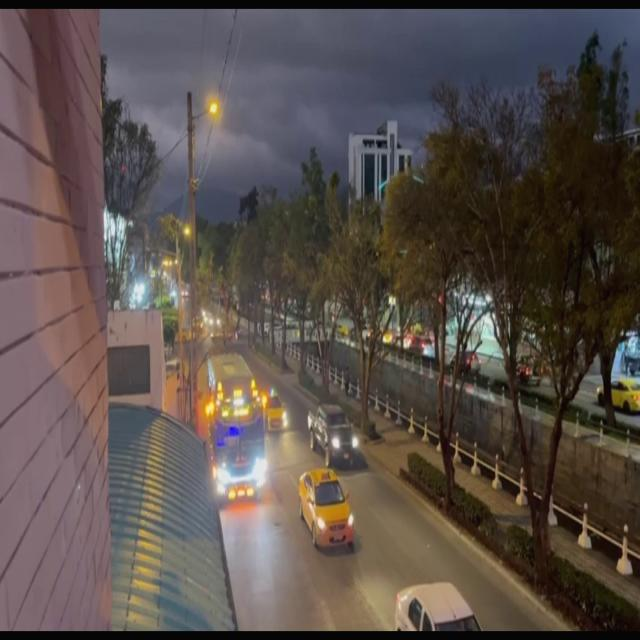CMT: (310, 406, 358, 462)
SED: (299, 474, 352, 546)
